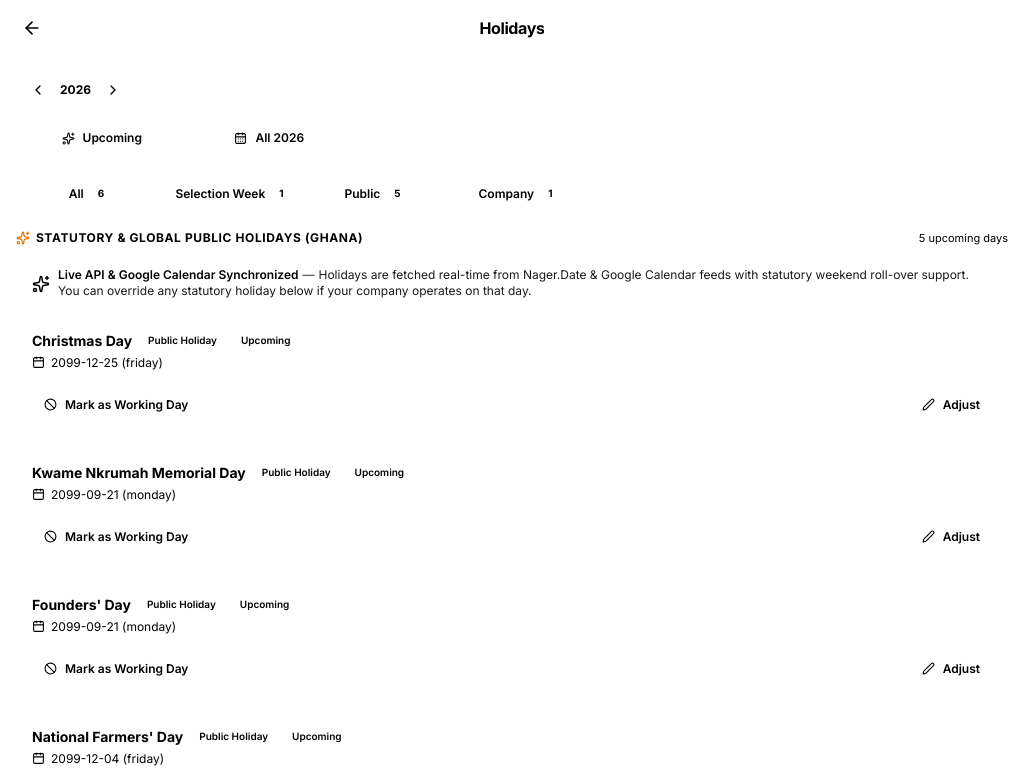
Test: MarkHolidays Page › filters by tabs (Selection Week, Public, Company)
Click the button "Selection Week 1". click: [232, 194]
box: [163,178,302,210]
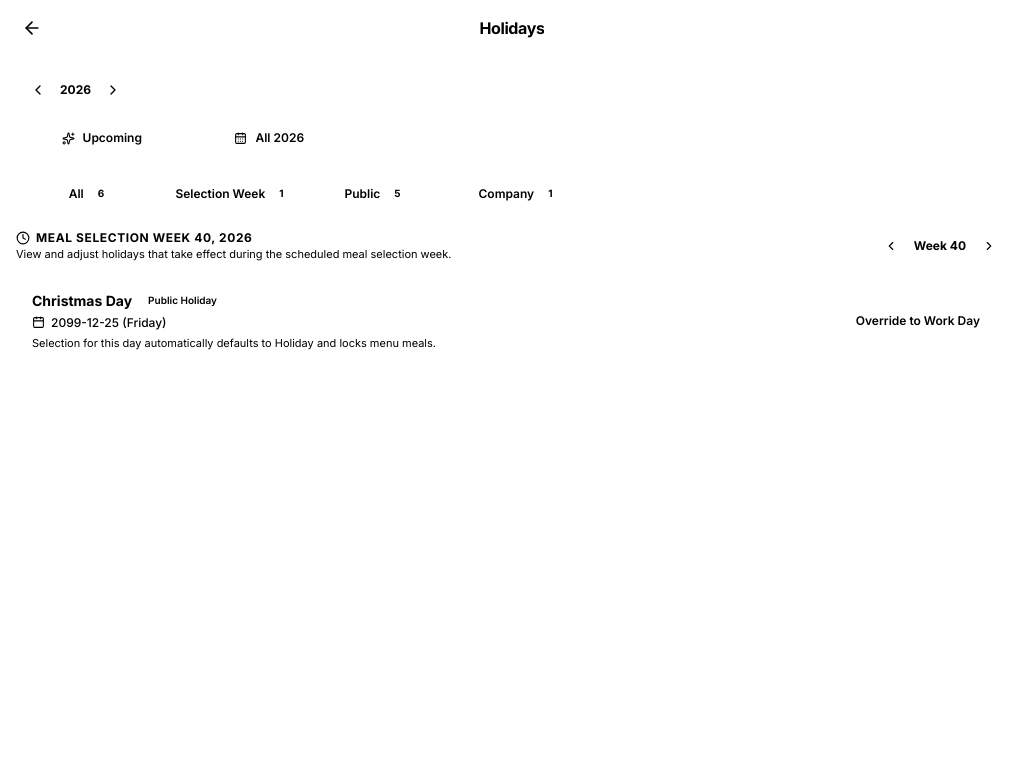
Check: the text "Meal Selection Week 40, 2026" is shown, box [36,230,252,246]
Click the button "Company 1". click: [518, 194]
box: [449,178,588,210]
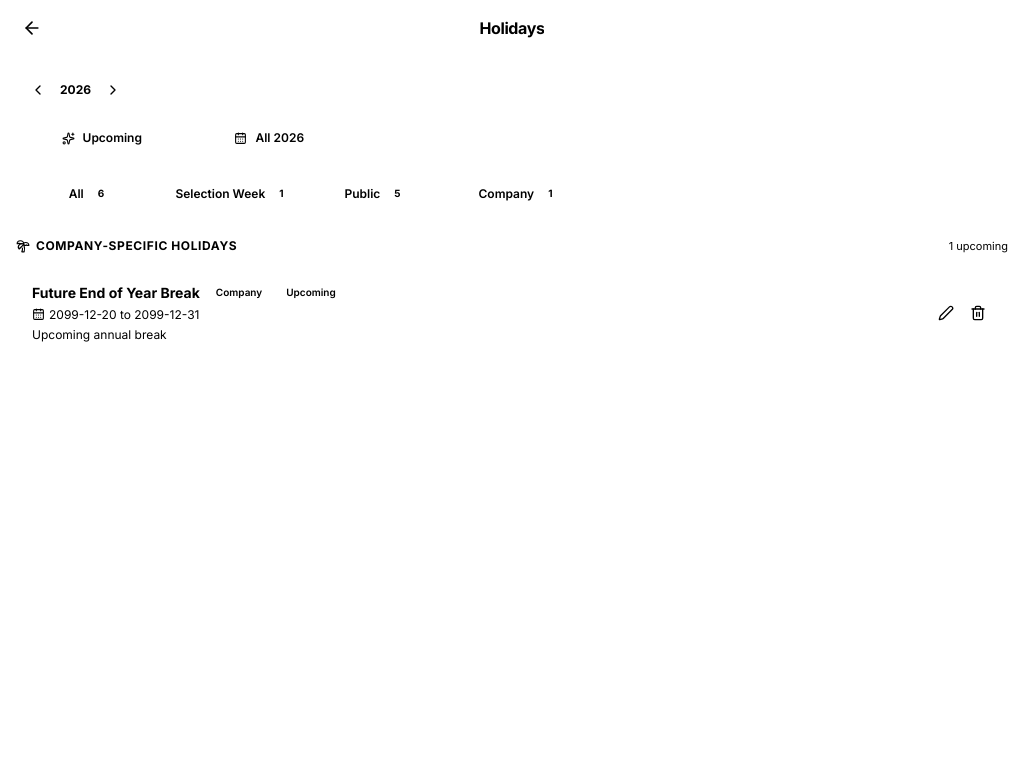
Check: the heading "Future End of Year Break" is shown, box [32,282,200,302]
